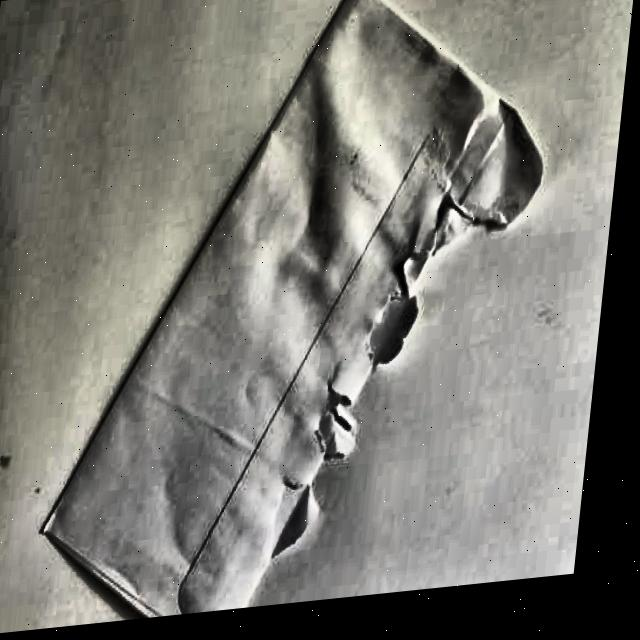paper: (26, 0, 573, 630)
